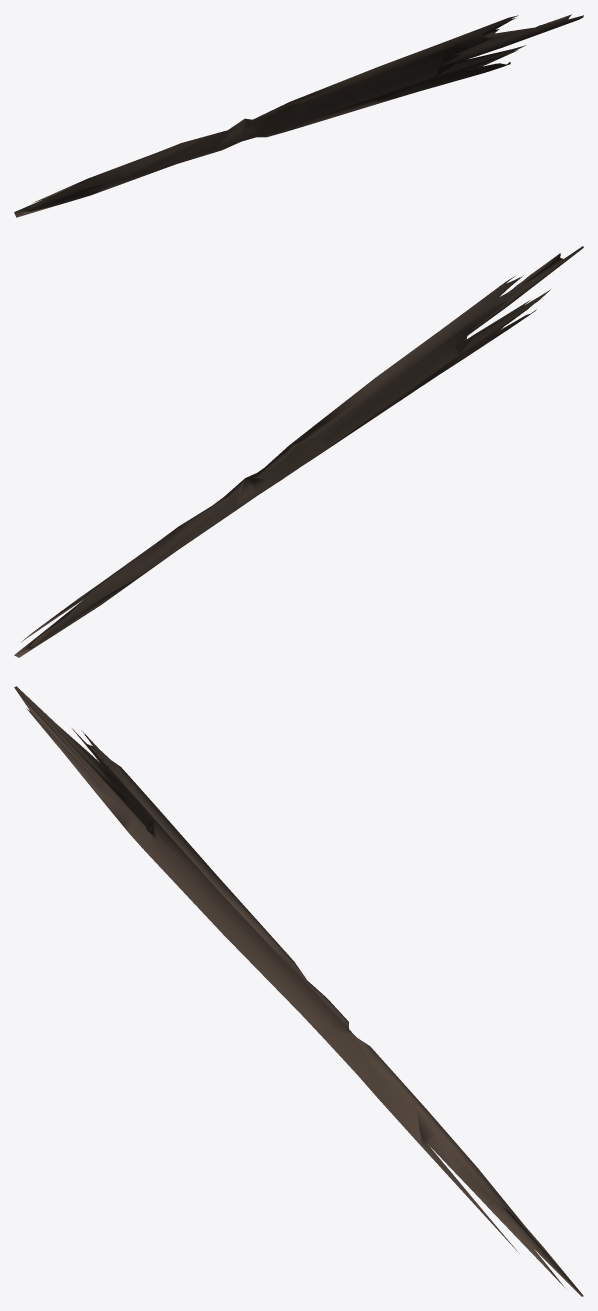
The picture shows the model from 3 angles, top to bottom: view 1: azimuth 90°, elevation 25°; view 2: azimuth 150°, elevation 25°; view 3: azimuth 270°, elevation 25°; orthographic projection. The views are drawn at different scales.
Visible parts, largest first — view 1: alt7.054; view 2: alt7.054; view 3: alt7.054.
Part boxes in pixels (<box>): alt7.054: <box>14,14,583,217</box>; alt7.054: <box>14,246,583,657</box>; alt7.054: <box>14,686,583,1296</box>.
Bounding box in the file's own units: 0.4319 × 0.3932 × 0.5.
